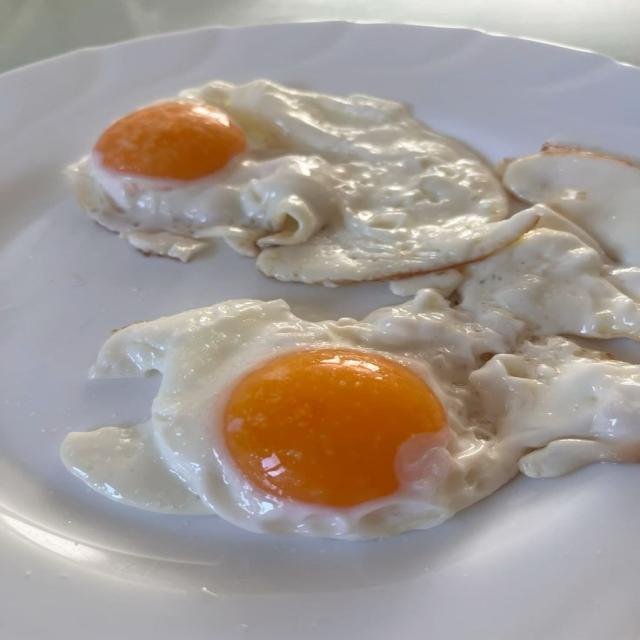fryed egg: (62, 290, 639, 539), (62, 290, 519, 539), (69, 81, 536, 283), (458, 228, 639, 340), (503, 148, 639, 266)
